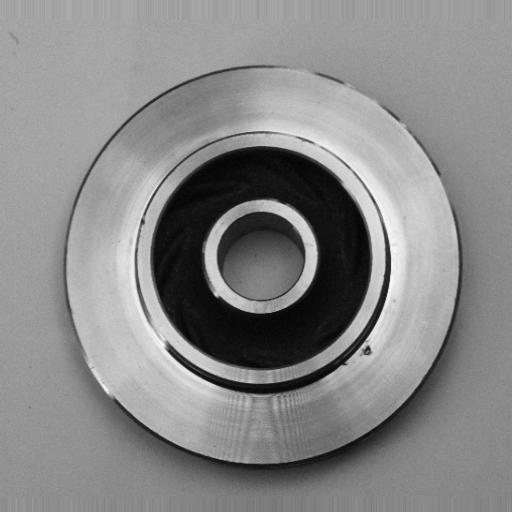crack: (355, 336, 383, 362)
scratch: (128, 267, 180, 367)
unpolished_casting: (59, 63, 463, 472)
